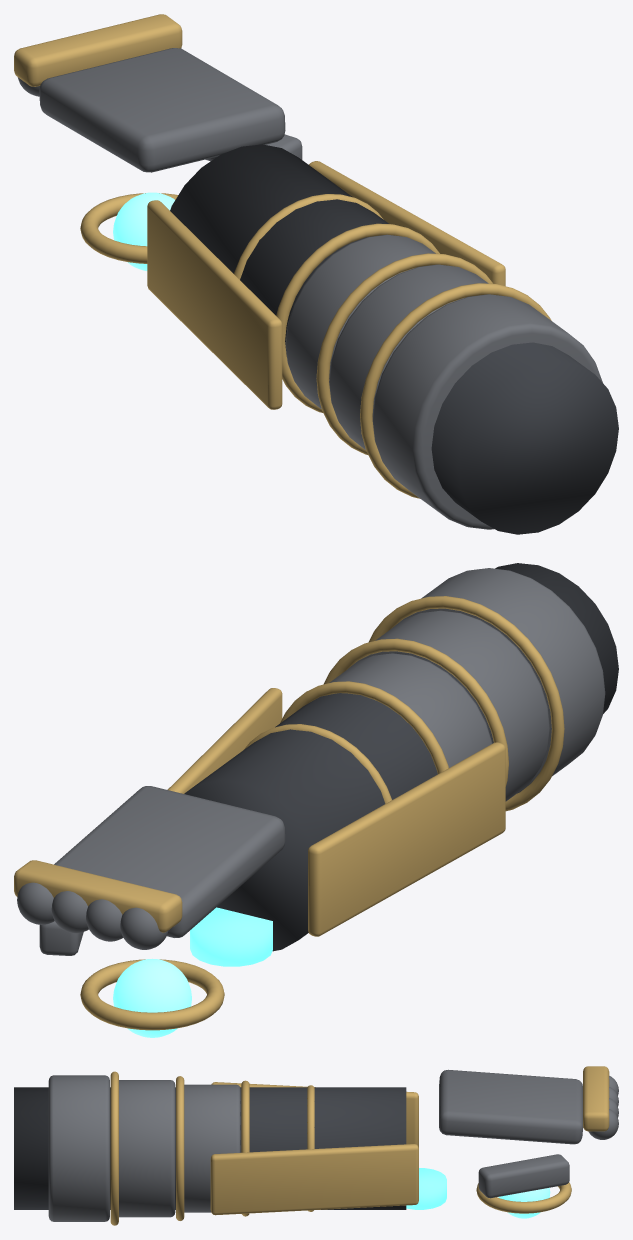
Rendered from gauntlet.glb.
The picture shows the model from 3 angles, top to bottom: view 1: azimuth 30°, elevation 25°; view 2: azimuth 150°, elevation 25°; view 3: azimuth 270°, elevation 25°; orthographic projection. The views are drawn at different scales.
Visible parts, largest first — view 1: forearm_core, hand_plate, plate0, side_vane-1, plate1, plate2, knuckle_bar, plate_edge0, plate_edge1, side_vane1, plate_edge2, palm_ring (+2 smaller); view 2: forearm_core, side_vane-1, hand_plate, plate0, plate1, plate2, plate_edge0, knuckle_bar, palm_ring, wrist_core, palm_emitter, side_vane1 (+8 smaller); view 3: forearm_core, side_vane1, hand_plate, plate0, plate1, plate2, thumb_guard, knuckle_bar, plate_edge0, plate_edge1, palm_ring, wrist_core (+5 smaller).
Boxes of the visible parts, x1,y1,x2,y2 form: forearm_core: [170, 144, 618, 534]; hand_plate: [39, 48, 285, 172]; plate0: [372, 294, 602, 529]; side_vane-1: [147, 200, 282, 409]; plate1: [329, 264, 488, 449]; plate2: [285, 234, 435, 408]; knuckle_bar: [14, 14, 182, 86]; plate_edge0: [360, 283, 551, 498]; plate_edge1: [316, 253, 492, 454]; side_vane1: [309, 161, 505, 286]; plate_edge2: [276, 223, 439, 412]; palm_ring: [80, 193, 178, 263]; forearm_core: [184, 563, 618, 951]; side_vane-1: [308, 742, 505, 936]; hand_plate: [54, 786, 285, 937]; plate0: [393, 568, 605, 793]; plate1: [348, 610, 549, 801]; plate2: [329, 653, 492, 767]; plate_edge0: [368, 596, 564, 811]; knuckle_bar: [14, 860, 182, 932]; palm_ring: [80, 959, 224, 1030]; wrist_core: [190, 907, 272, 966]; palm_emitter: [113, 958, 191, 1037]; side_vane1: [167, 688, 282, 793]; forearm_core: [14, 1087, 406, 1209]; side_vane1: [210, 1144, 418, 1215]; hand_plate: [439, 1069, 583, 1144]; plate0: [48, 1075, 109, 1221]; plate1: [119, 1080, 175, 1217]; plate2: [184, 1084, 240, 1212]; thumb_guard: [478, 1154, 569, 1198]; knuckle_bar: [583, 1066, 609, 1131]; plate_edge0: [110, 1071, 118, 1225]; plate_edge1: [176, 1076, 184, 1220]; palm_ring: [476, 1182, 571, 1213]; wrist_core: [406, 1168, 446, 1209].
Bounding box in the file's own units: 0.1408 × 0.1184 × 0.4625.
